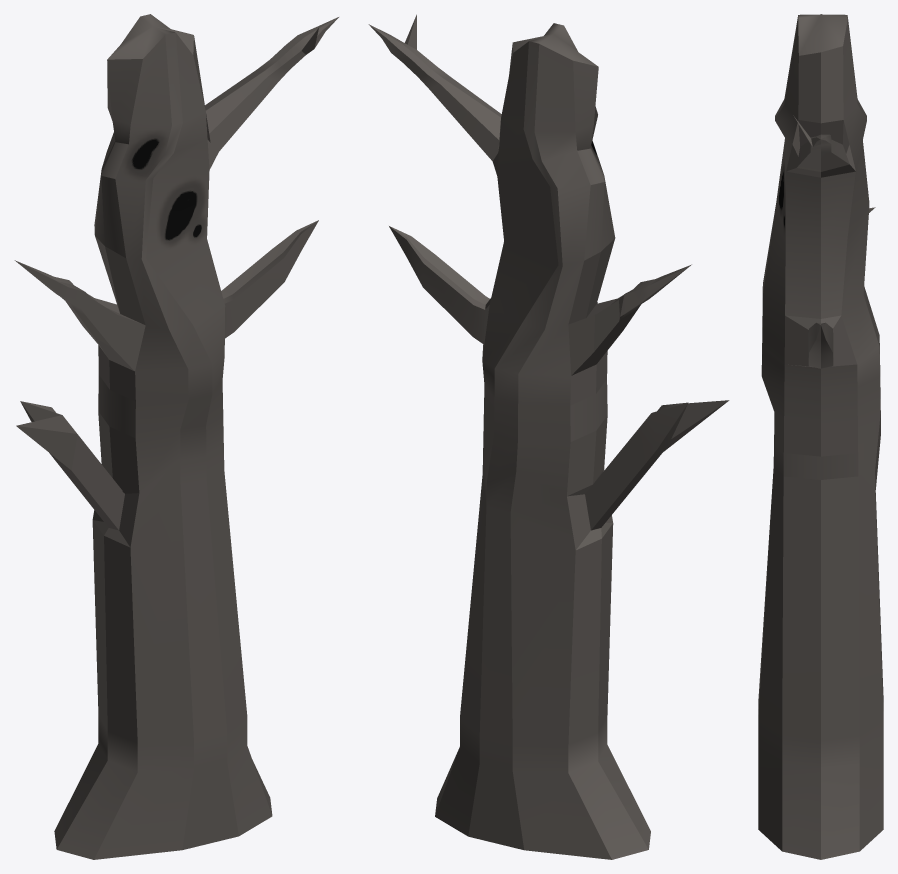
The model's file is Tree_Dead7.fbx.
3 views of the same model, side by side, from view 1: azimuth 30°, elevation 25°; view 2: azimuth 150°, elevation 25°; view 3: azimuth 270°, elevation 25° (orthographic).
Parts seen in each view (by area): view 1: pCylinder7; view 2: pCylinder7; view 3: pCylinder7.
Part boxes in pixels (bbox=[...]): pCylinder7: bbox=[14, 14, 338, 859]; pCylinder7: bbox=[368, 14, 729, 859]; pCylinder7: bbox=[758, 14, 883, 859].
Bounding box in the file's own units: 1.14 × 2.53 × 0.365.
